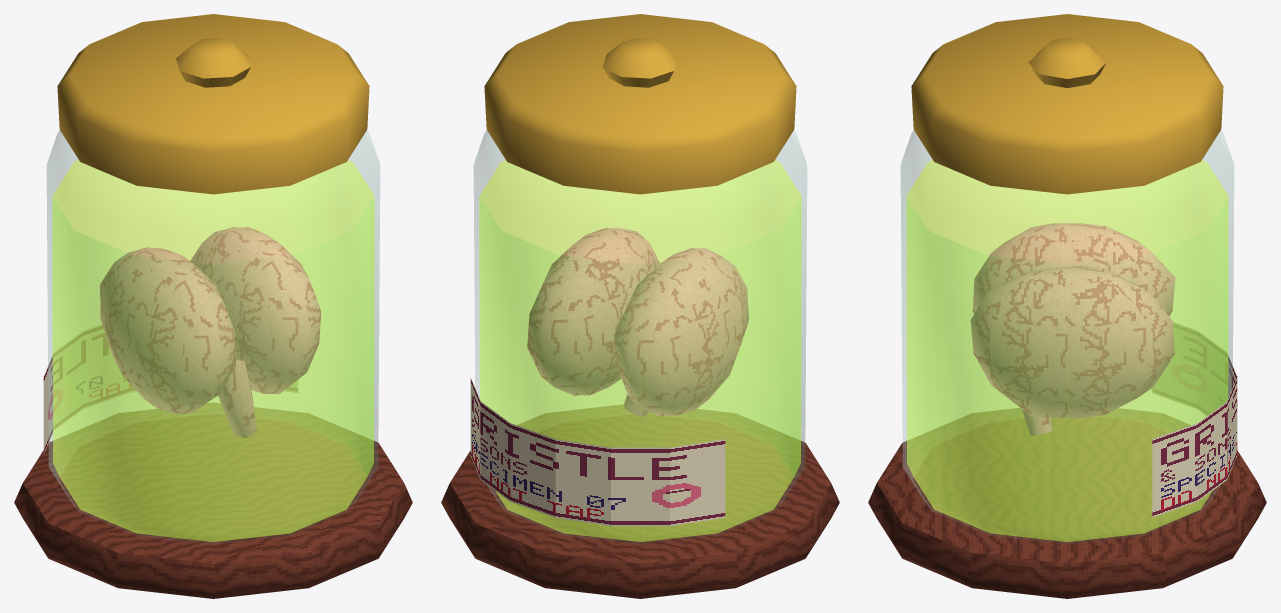
Rendered from s_organjar.glb.
3 views of the same model, side by side, from view 1: azimuth 30°, elevation 25°; view 2: azimuth 150°, elevation 25°; view 3: azimuth 270°, elevation 25° (orthographic).
Parts seen in each view (by area): view 1: organjar_oj_glass, organjar_oj_fluid_glow, organjar_oj_wood, organjar_oj_brass, organjar_oj_organ, organjar_oj_label; view 2: organjar_oj_glass, organjar_oj_fluid_glow, organjar_oj_brass, organjar_oj_wood, organjar_oj_organ, organjar_oj_label; view 3: organjar_oj_glass, organjar_oj_fluid_glow, organjar_oj_wood, organjar_oj_brass, organjar_oj_organ, organjar_oj_label.
Boxes of the visible parts, x1=… form: organjar_oj_glass: x1=47, y1=130, x2=379, y2=544; organjar_oj_fluid_glow: x1=52, y1=160, x2=374, y2=541; organjar_oj_wood: x1=14, y1=402, x2=412, y2=598; organjar_oj_brass: x1=57, y1=14, x2=369, y2=194; organjar_oj_organ: x1=100, y1=227, x2=321, y2=437; organjar_oj_label: x1=43, y1=324, x2=297, y2=454; organjar_oj_glass: x1=474, y1=130, x2=806, y2=544; organjar_oj_fluid_glow: x1=479, y1=160, x2=801, y2=541; organjar_oj_brass: x1=484, y1=14, x2=796, y2=194; organjar_oj_wood: x1=441, y1=404, x2=839, y2=598; organjar_oj_organ: x1=527, y1=228, x2=748, y2=416; organjar_oj_label: x1=470, y1=378, x2=725, y2=526; organjar_oj_glass: x1=901, y1=130, x2=1233, y2=544; organjar_oj_fluid_glow: x1=906, y1=160, x2=1228, y2=541; organjar_oj_wood: x1=868, y1=408, x2=1266, y2=598; organjar_oj_brass: x1=911, y1=14, x2=1223, y2=194; organjar_oj_organ: x1=970, y1=223, x2=1175, y2=435; organjar_oj_label: x1=1152, y1=322, x2=1237, y2=517.
Size of what is drawn, in the model's own units: 0.92 by 1.2 by 0.92.
6 materials, 3 textured.
